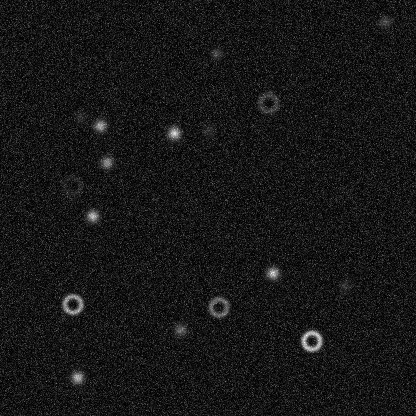Ring: (206, 294, 230, 318), (60, 173, 84, 197), (256, 90, 280, 114), (299, 328, 323, 352), (60, 292, 84, 316)
Spot: (98, 154, 114, 170), (336, 277, 352, 293), (72, 108, 88, 124), (200, 122, 216, 138), (84, 207, 100, 223), (264, 265, 280, 281), (376, 13, 392, 29), (166, 125, 182, 141), (172, 321, 188, 337), (208, 45, 224, 61), (91, 117, 107, 133), (69, 369, 85, 385)
